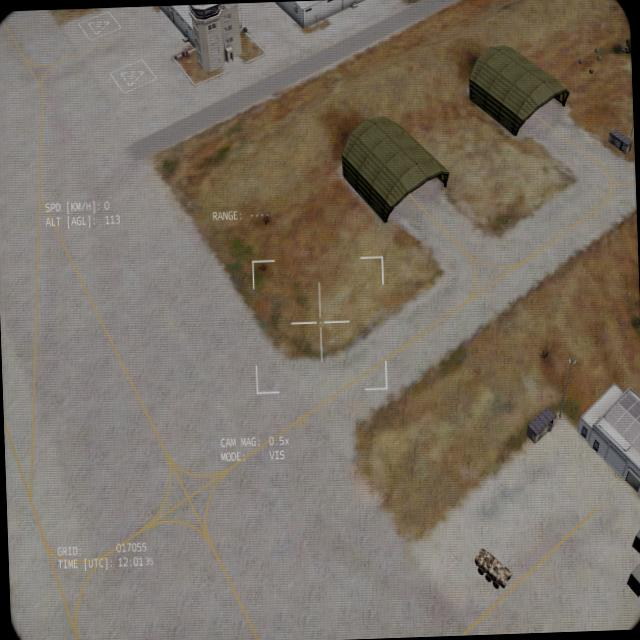apc: (473, 546, 510, 588)
